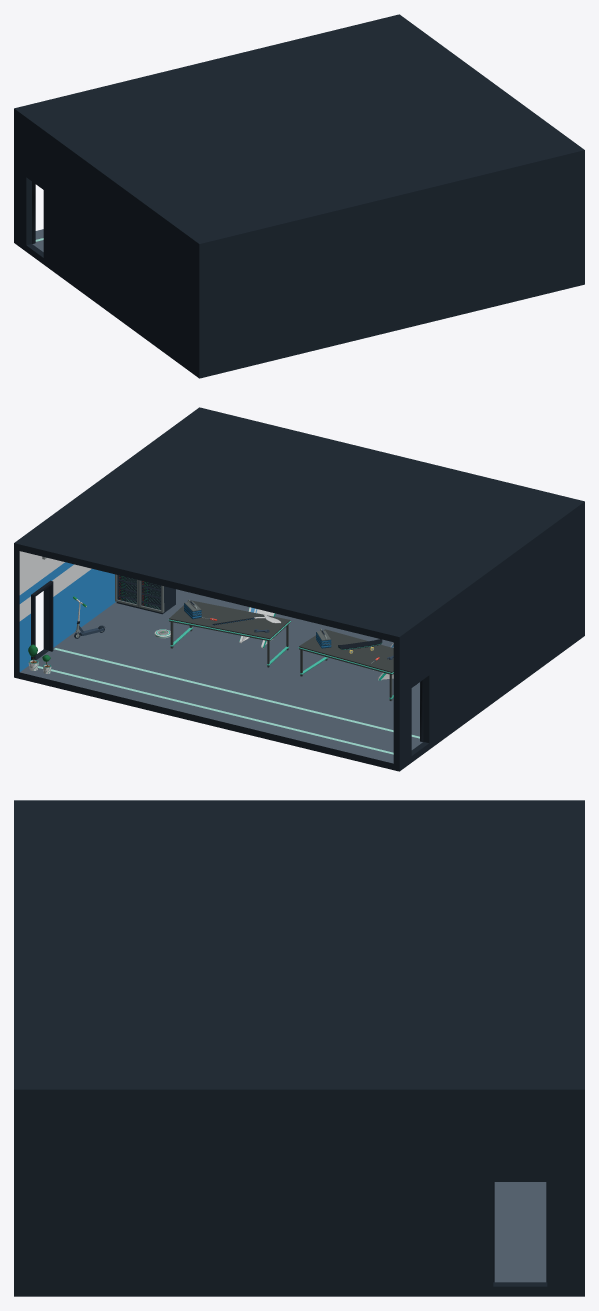
Rendered from Room_assembling_003.fbx.
The picture shows the model from 3 angles, top to bottom: view 1: azimuth 30°, elevation 25°; view 2: azimuth 150°, elevation 25°; view 3: azimuth 270°, elevation 25°; orthographic projection. The views are drawn at different scales.
Parts seen in each view (by area): view 1: Room_large_001; view 2: Room_large_001; view 3: Room_large_001.
Boxes of the visible parts, left/top/right/bottom form: Room_large_001: left=14, top=14, right=584, bottom=378; Room_large_001: left=14, top=407, right=584, bottom=771; Room_large_001: left=14, top=800, right=584, bottom=1296.
Bounding box in the file's own units: 1200 × 400 × 1000.
